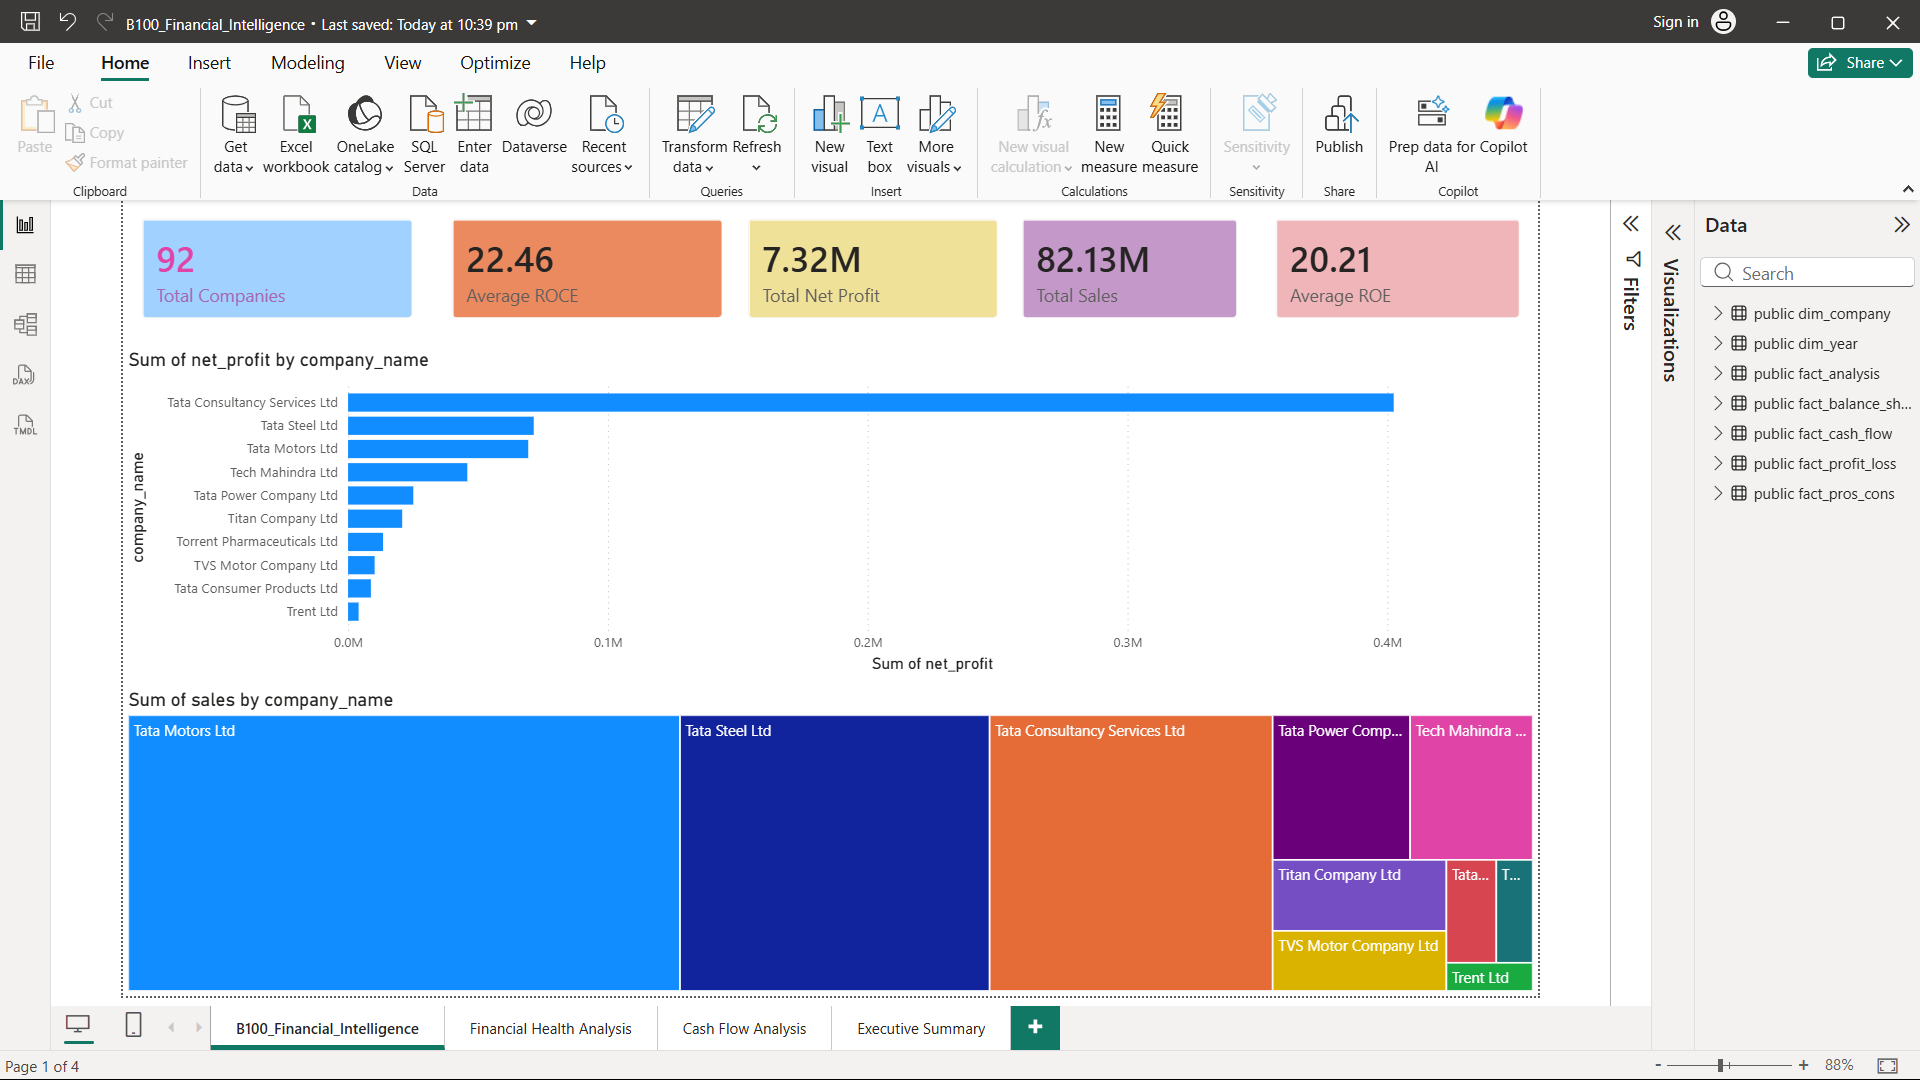

Layout of this report page (visuals, bound fields, positions):
{"tool":"powerbi","page":{"name":"B100_Financial_Intelligence","canvas":[1280,720],"ordinal":0},"visuals":[{"type":"cardVisual","fields":{"Data":["public dim_company.Total Companies"]},"box":[0,0,279.9,124.9],"z":0},{"type":"cardVisual","fields":{"Data":["public dim_company.Average ROCE"]},"box":[279.9,0,279.9,124.9],"z":1000},{"type":"cardVisual","fields":{"Data":["public dim_company.Average ROE"]},"box":[1025,0,255.2,124.9],"z":2000},{"type":"cardVisual","fields":{"Data":["public dim_company.Total Net Profit"]},"box":[548.9,0,260.7,124.9],"z":3000},{"type":"cardVisual","fields":{"Data":["public dim_company.Total Sales"]},"box":[795.9,0,229.2,124.9],"z":4000},{"type":"clusteredBarChart","fields":{"Category":["public dim_company.company_name"],"Y":["Sum(public fact_profit_loss.net_profit)"]},"box":[0,134.5,1280.3,297.8],"z":5000},{"type":"treemap","fields":{"Group":["public dim_company.company_name"],"Values":["Sum(public fact_profit_loss.sales)"]},"box":[0,441.9,1280.3,278.6],"z":6000}]}

Visuals, with their boxes on the page's 1280x720 design canvas (x1, y1, x2, y2). These are canvas units, not pixel positions in the 1920x1080 screenshot, which may show the page scaled, cropped or inside an application window:
cardVisual - public dim_company.Total Companies: 0,0,280,125
cardVisual - public dim_company.Average ROCE: 280,0,560,125
cardVisual - public dim_company.Average ROE: 1025,0,1280,125
cardVisual - public dim_company.Total Net Profit: 549,0,810,125
cardVisual - public dim_company.Total Sales: 796,0,1025,125
clusteredBarChart - public dim_company.company_name x Sum(public fact_profit_loss.net_profit): 0,134,1280,432
treemap - public dim_company.company_name x Sum(public fact_profit_loss.sales): 0,442,1280,720
